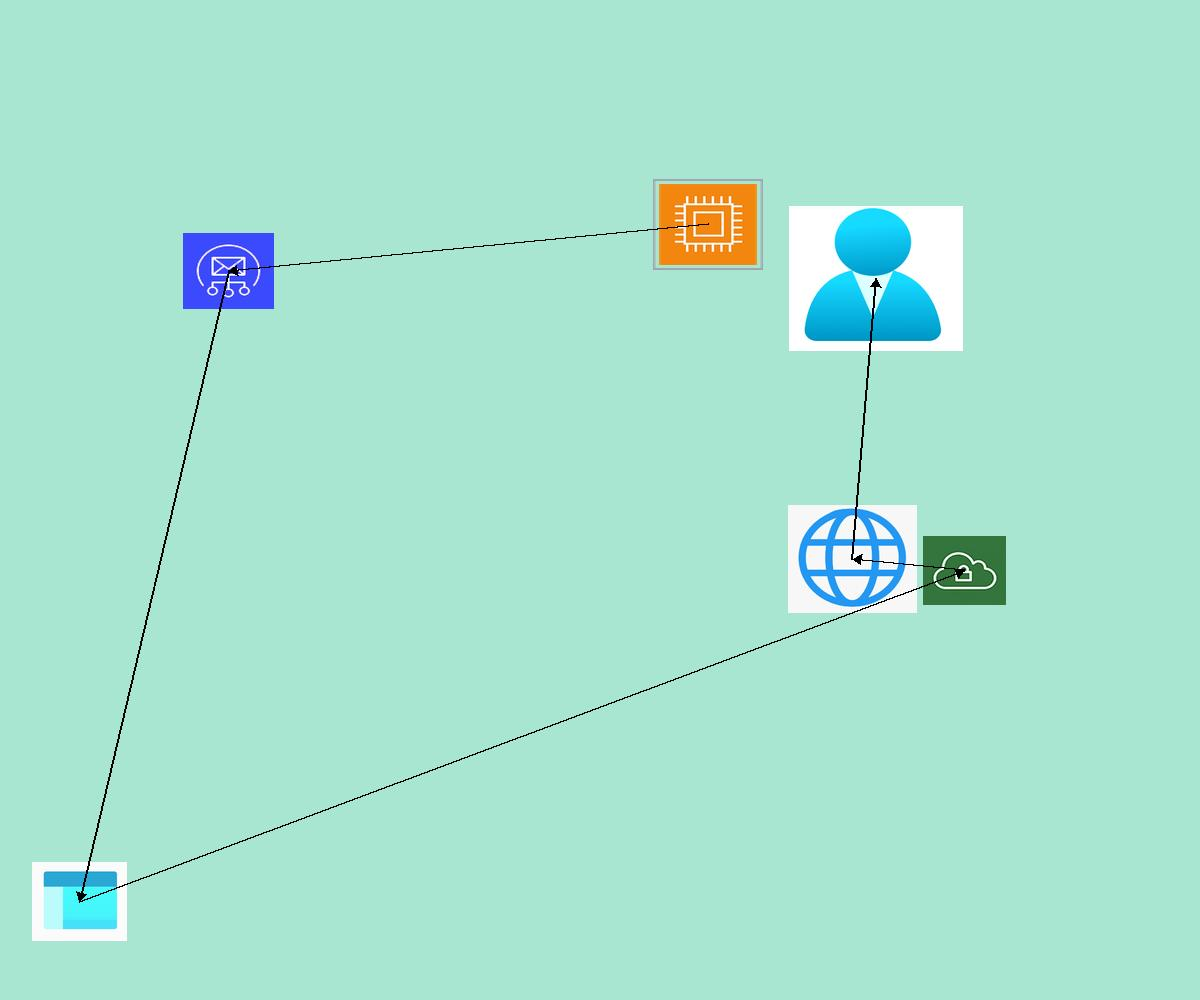AWS-Category_Compute: (653, 179, 763, 270)
AWS-Private_vpc: (923, 536, 1006, 605)
AWS-Simple-Email-Service: (183, 233, 274, 309)
Azure_http: (788, 505, 917, 613)
Azure_management-portal: (32, 862, 127, 941)
Azure_users: (789, 206, 963, 351)
